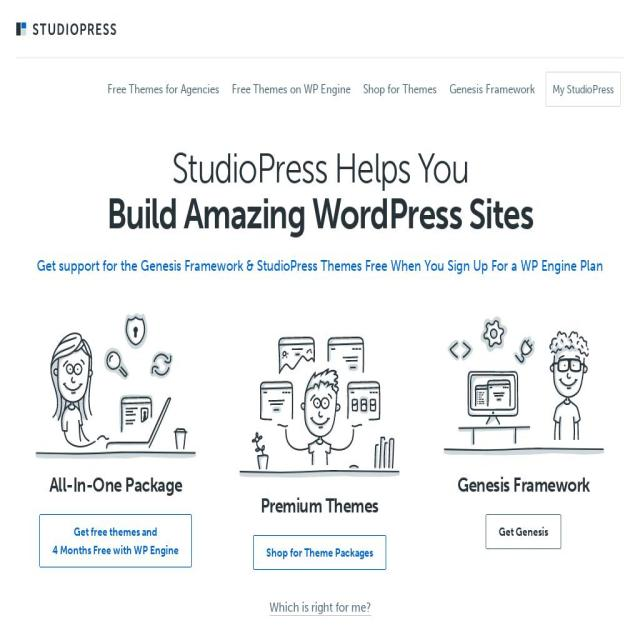button: (39, 514, 192, 568), (227, 60, 356, 120), (103, 60, 225, 120), (15, 0, 120, 60), (444, 60, 540, 120), (358, 60, 443, 120), (252, 535, 386, 571), (486, 514, 562, 550), (546, 72, 621, 106), (269, 598, 371, 616)
heading: (106, 188, 533, 240), (171, 142, 468, 194), (421, 473, 626, 498), (14, 473, 218, 498), (217, 494, 422, 518)
image: (15, 22, 120, 36)
text: (14, 254, 626, 278), (52, 544, 180, 558), (232, 82, 351, 96), (108, 82, 220, 96), (74, 525, 158, 540), (450, 82, 536, 96), (363, 82, 438, 96)
